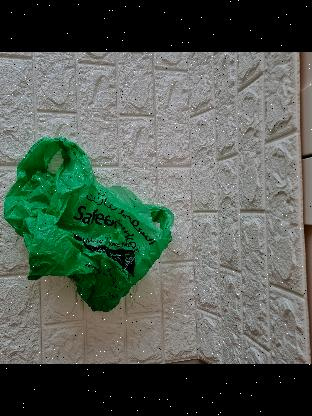Others: (0, 139, 178, 311)
